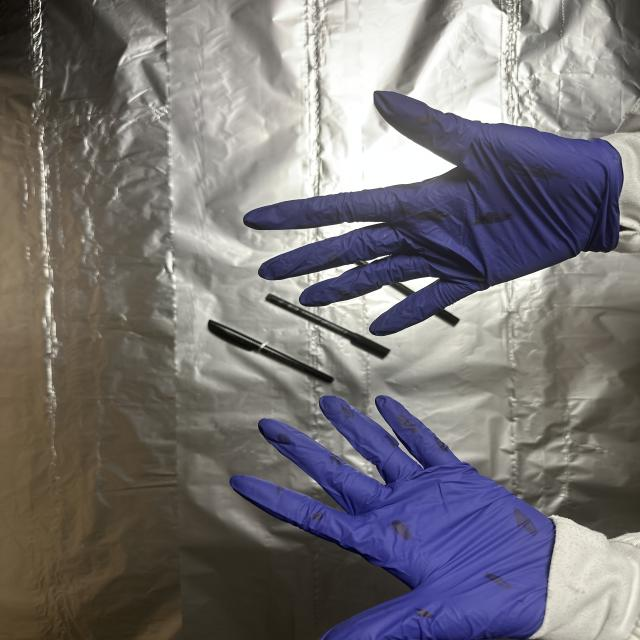gloves_contaminated: (244, 92, 623, 335), (230, 395, 556, 640)
